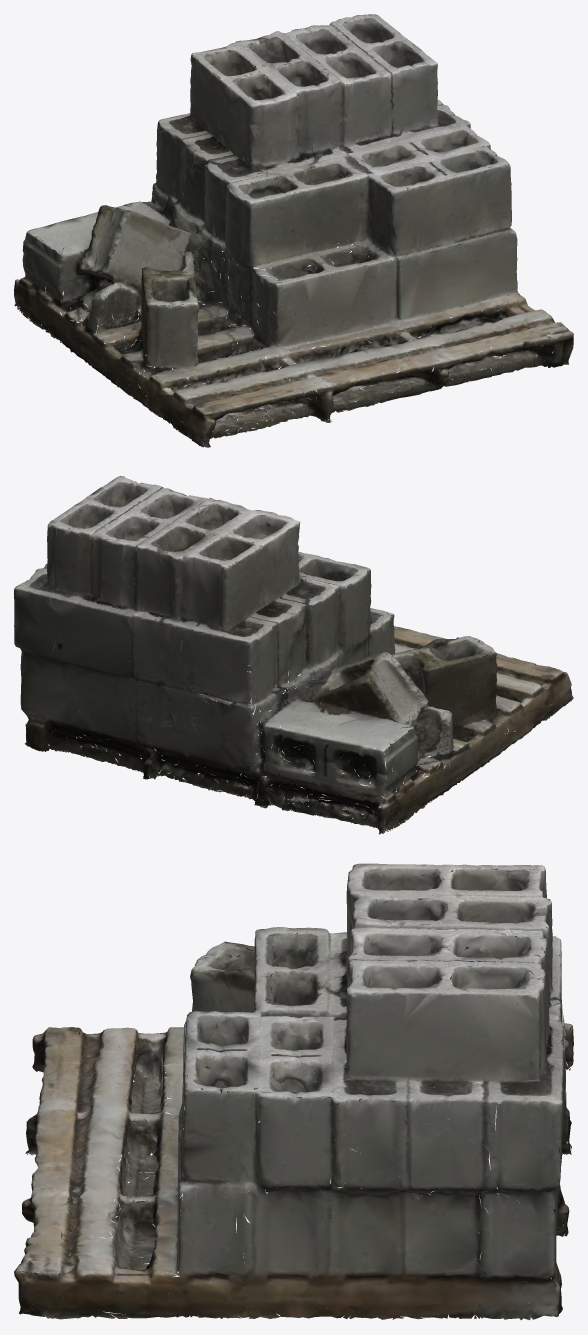
Rendered from cinderpallet.glb.
The picture shows the model from 3 angles, top to bottom: view 1: azimuth 30°, elevation 25°; view 2: azimuth 150°, elevation 25°; view 3: azimuth 270°, elevation 25°; orthographic projection. The views are drawn at different scales.
Visible parts, largest first — view 1: texturedMesh_TextureAtlas_1002_0, texturedMesh_TextureAtlas_1006_0, texturedMesh_TextureAtlas_1003_0, texturedMesh_TextureAtlas_1001_0, texturedMesh_TextureAtlas_1005_0, texturedMesh_TextureAtlas_1004_0, texturedMesh_TextureAtlas_1007_0; view 2: texturedMesh_TextureAtlas_1002_0, texturedMesh_TextureAtlas_1004_0, texturedMesh_TextureAtlas_1005_0, texturedMesh_TextureAtlas_1003_0, texturedMesh_TextureAtlas_1006_0, texturedMesh_TextureAtlas_1001_0, texturedMesh_TextureAtlas_1007_0; view 3: texturedMesh_TextureAtlas_1001_0, texturedMesh_TextureAtlas_1005_0, texturedMesh_TextureAtlas_1002_0, texturedMesh_TextureAtlas_1006_0, texturedMesh_TextureAtlas_1004_0, texturedMesh_TextureAtlas_1003_0, texturedMesh_TextureAtlas_1007_0.
Part boxes in pixels (bbox=[...]): texturedMesh_TextureAtlas_1002_0: bbox=[14, 14, 571, 436]; texturedMesh_TextureAtlas_1006_0: bbox=[14, 14, 573, 447]; texturedMesh_TextureAtlas_1003_0: bbox=[47, 21, 573, 445]; texturedMesh_TextureAtlas_1001_0: bbox=[14, 16, 556, 445]; texturedMesh_TextureAtlas_1005_0: bbox=[14, 20, 572, 438]; texturedMesh_TextureAtlas_1004_0: bbox=[27, 14, 551, 447]; texturedMesh_TextureAtlas_1007_0: bbox=[42, 25, 545, 430]; texturedMesh_TextureAtlas_1002_0: bbox=[16, 481, 560, 829]; texturedMesh_TextureAtlas_1004_0: bbox=[14, 501, 548, 816]; texturedMesh_TextureAtlas_1005_0: bbox=[20, 478, 570, 831]; texturedMesh_TextureAtlas_1003_0: bbox=[48, 483, 571, 797]; texturedMesh_TextureAtlas_1006_0: bbox=[14, 483, 573, 834]; texturedMesh_TextureAtlas_1001_0: bbox=[14, 476, 571, 831]; texturedMesh_TextureAtlas_1007_0: bbox=[53, 503, 522, 823]; texturedMesh_TextureAtlas_1001_0: bbox=[24, 865, 572, 1319]; texturedMesh_TextureAtlas_1005_0: bbox=[19, 865, 573, 1319]; texturedMesh_TextureAtlas_1002_0: bbox=[19, 863, 573, 1319]; texturedMesh_TextureAtlas_1006_0: bbox=[14, 864, 573, 1319]; texturedMesh_TextureAtlas_1004_0: bbox=[24, 864, 566, 1318]; texturedMesh_TextureAtlas_1003_0: bbox=[14, 864, 568, 1319]; texturedMesh_TextureAtlas_1007_0: bbox=[47, 865, 571, 1268].
Size of the model in its own units: 1.2 by 0.6869 by 1.09.
Materials: 7 (7 with a texture image).
